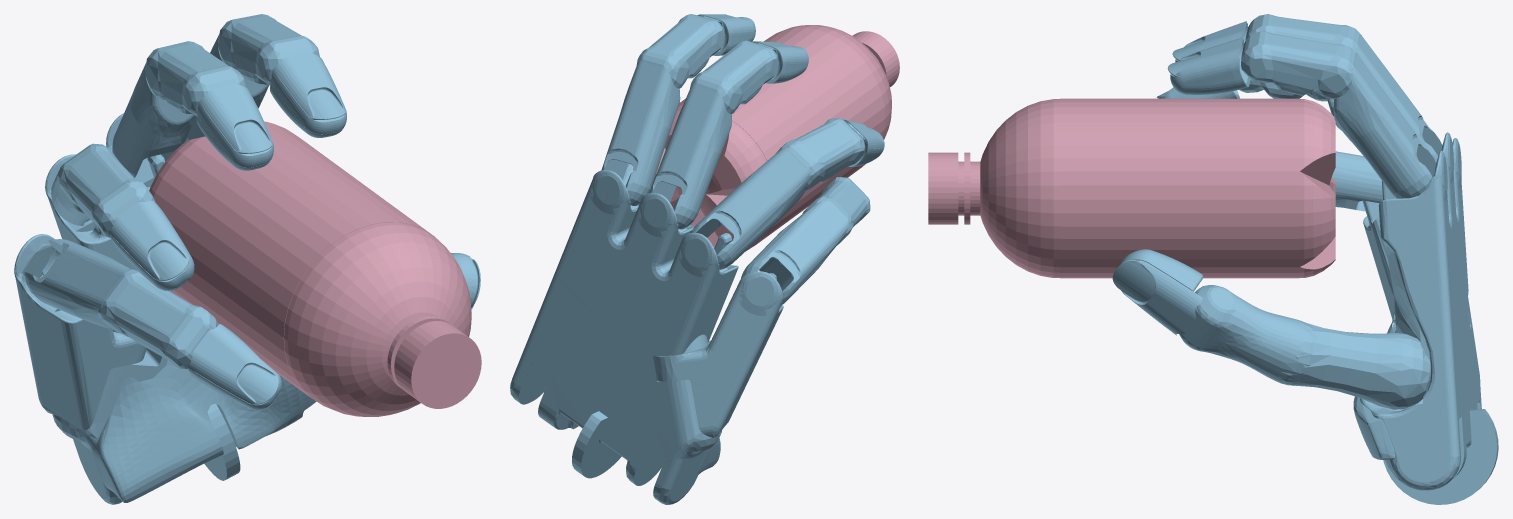
3 renders of one model, left to right at view 1: azimuth 30°, elevation 25°; view 2: azimuth 150°, elevation 25°; view 3: azimuth 270°, elevation 25°, orthographic. The views are drawn at different scales.
Visible parts, largest first — view 1: world, water_bottle.stl; view 2: world, water_bottle.stl; view 3: world, water_bottle.stl.
Part boxes in pixels (bbox=[...]): world: bbox=[14, 14, 480, 504]; water_bottle.stl: bbox=[149, 121, 481, 416]; world: bbox=[510, 14, 884, 504]; water_bottle.stl: bbox=[633, 25, 899, 250]; world: bbox=[1112, 14, 1498, 504]; water_bottle.stl: bbox=[928, 98, 1335, 278].
Size of the model in its own units: 0.1178 by 0.1705 by 0.1911.
